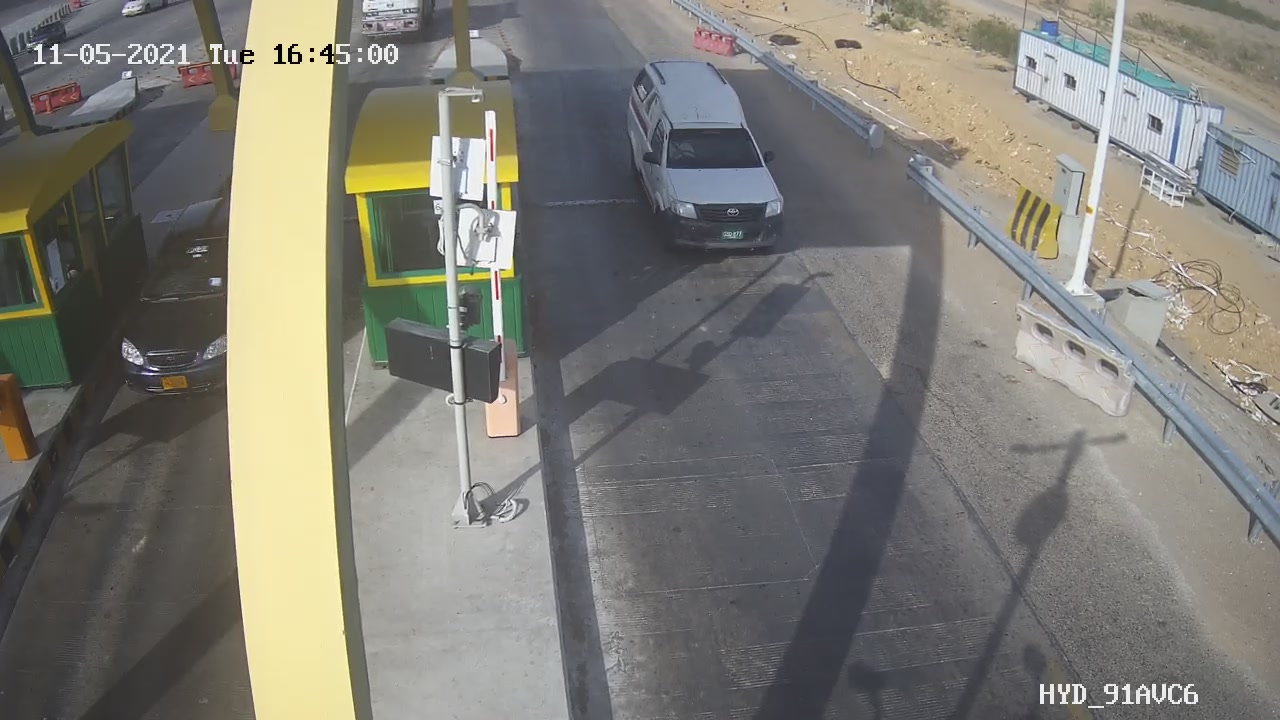F1: (612, 47, 818, 270)
